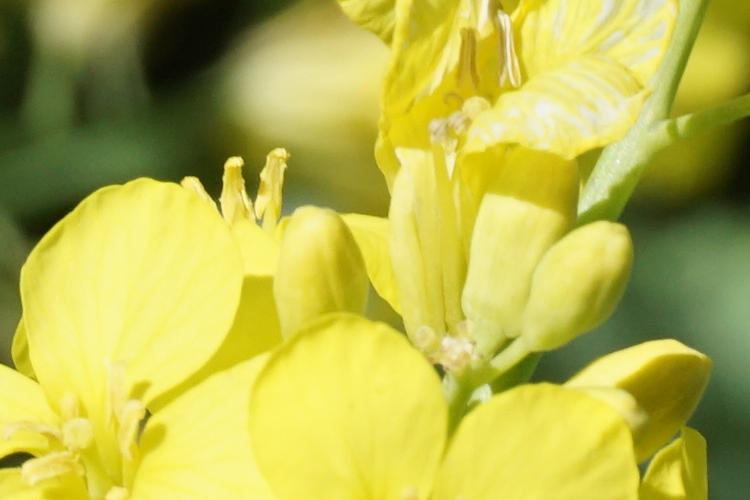bud: (479, 147, 578, 345), (586, 340, 728, 458), (534, 219, 645, 347), (267, 203, 371, 327)
yellow: (13, 169, 364, 498), (249, 306, 639, 500), (363, 4, 688, 169)
